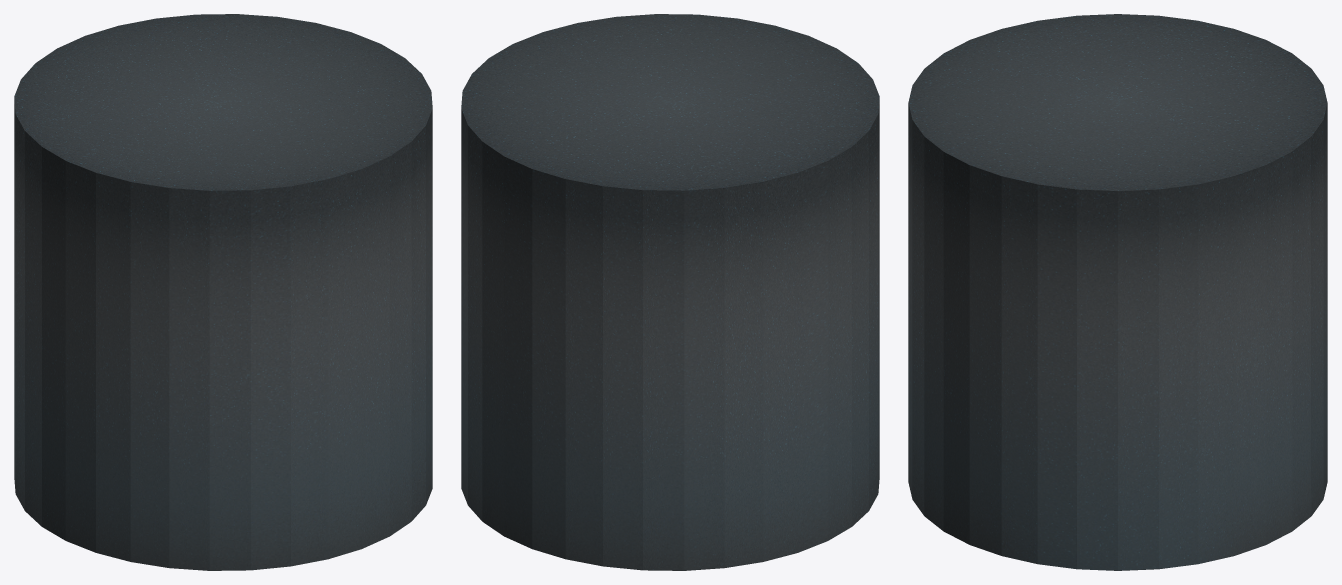
Rendered from Room.obj.
3 views of the same model, side by side, from view 1: azimuth 30°, elevation 25°; view 2: azimuth 150°, elevation 25°; view 3: azimuth 270°, elevation 25° (orthographic).
Visible parts, largest first — view 1: Cylinder.001_Cylinder; view 2: Cylinder.001_Cylinder; view 3: Cylinder.001_Cylinder.
Boxes of the visible parts, box(x1,y1,x2,y2) form: Cylinder.001_Cylinder: box(14, 14, 432, 570); Cylinder.001_Cylinder: box(461, 14, 879, 570); Cylinder.001_Cylinder: box(908, 14, 1327, 570).
Size of the model in its own units: 2 by 2 by 2.
1 material, 1 textured.
